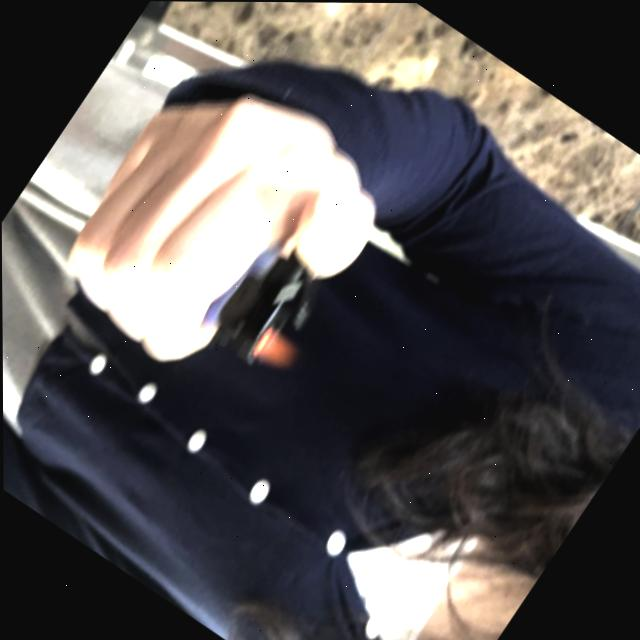Fire: (249, 325, 304, 381)
